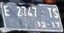plate: (1, 2, 63, 31)
